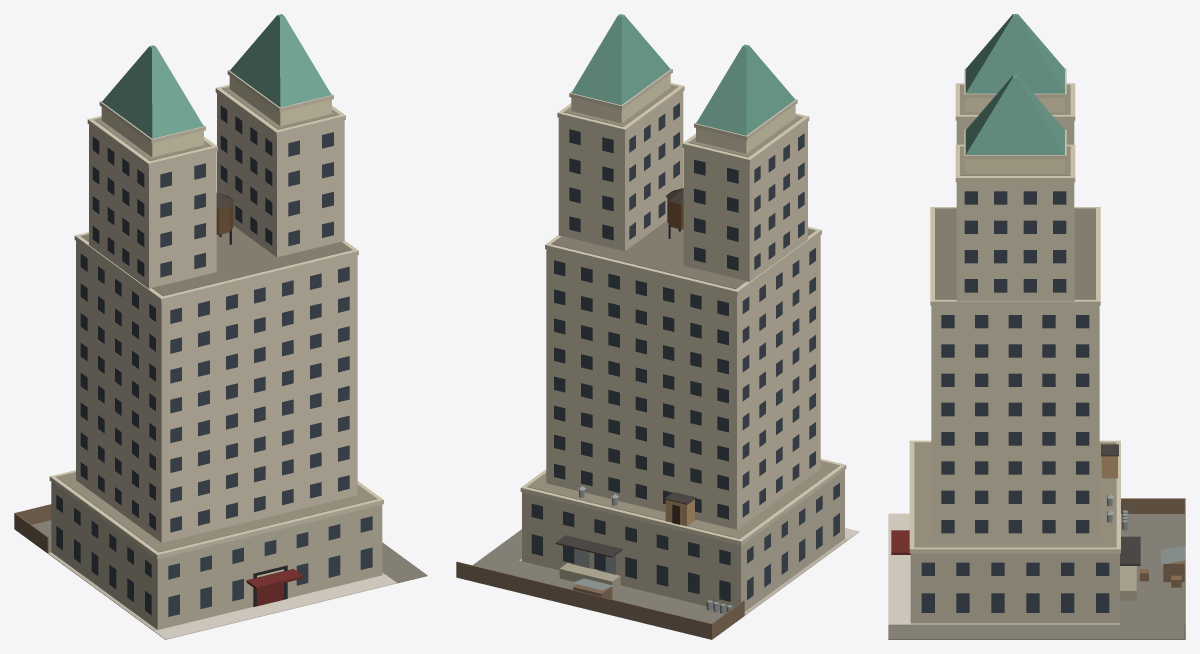
Rendered from aptower_b.glb.
The picture shows the model from 3 angles, left to right: view 1: azimuth 30°, elevation 25°; view 2: azimuth 150°, elevation 25°; view 3: azimuth 270°, elevation 25°; orthographic projection. The views are drawn at different scales.
Visible parts, largest first — view 1: aptower_b; view 2: aptower_b; view 3: aptower_b.
Boxes of the visible parts, x1,y1,x2,y2 form: aptower_b: [14, 14, 427, 639]; aptower_b: [456, 14, 859, 639]; aptower_b: [888, 14, 1185, 639].
Size of the model in its own units: 30 by 58.3 by 30.
